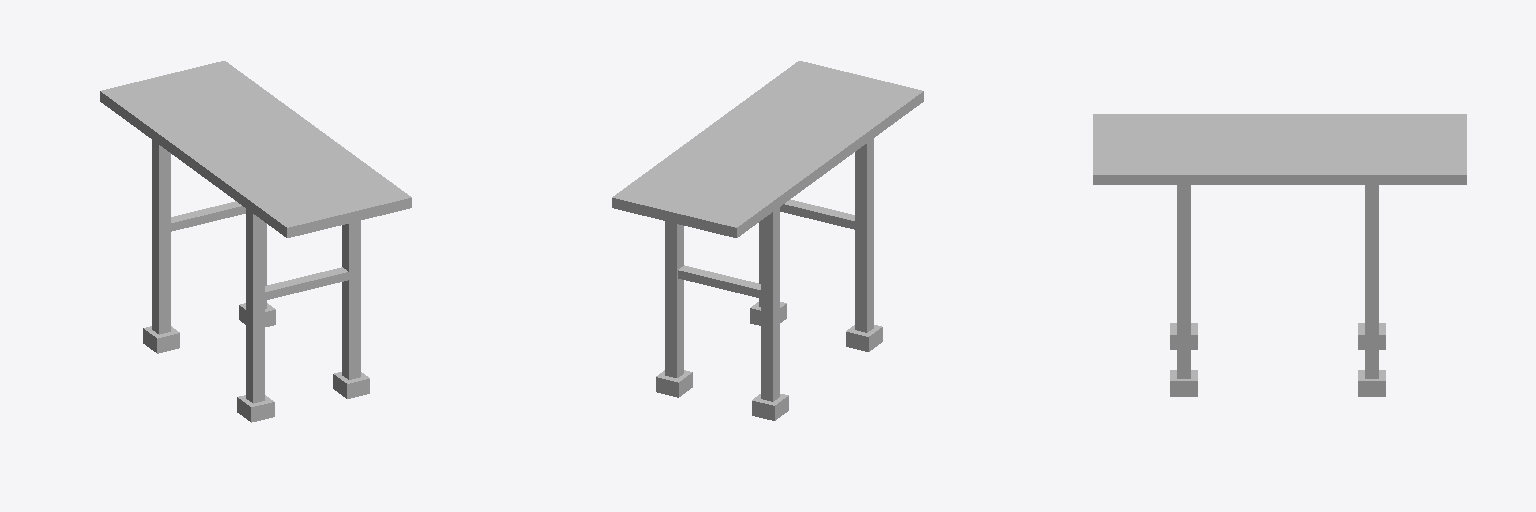
File: secondMonoRoadConnection.obj
The picture shows the model from 3 angles: view 1: azimuth 30°, elevation 25°; view 2: azimuth 150°, elevation 25°; view 3: azimuth 270°, elevation 25°; orthographic projection.
Visible parts, largest first — view 1: Cube, Куб.002, Куб.003; view 2: Cube, Куб.003, Куб.002; view 3: Cube, Куб.002, Куб.003.
Part boxes in pixels (x1,y1,x2,y2): Cube: (100, 61, 411, 237); Куб.002: (237, 209, 369, 422); Куб.003: (143, 140, 275, 353); Cube: (612, 61, 923, 237); Куб.003: (656, 207, 788, 420); Куб.002: (750, 138, 882, 351); Cube: (1093, 114, 1466, 184); Куб.002: (1170, 185, 1197, 396); Куб.003: (1358, 185, 1385, 396).
Bounding box in the file's own units: 2 × 3.42 × 5.2.